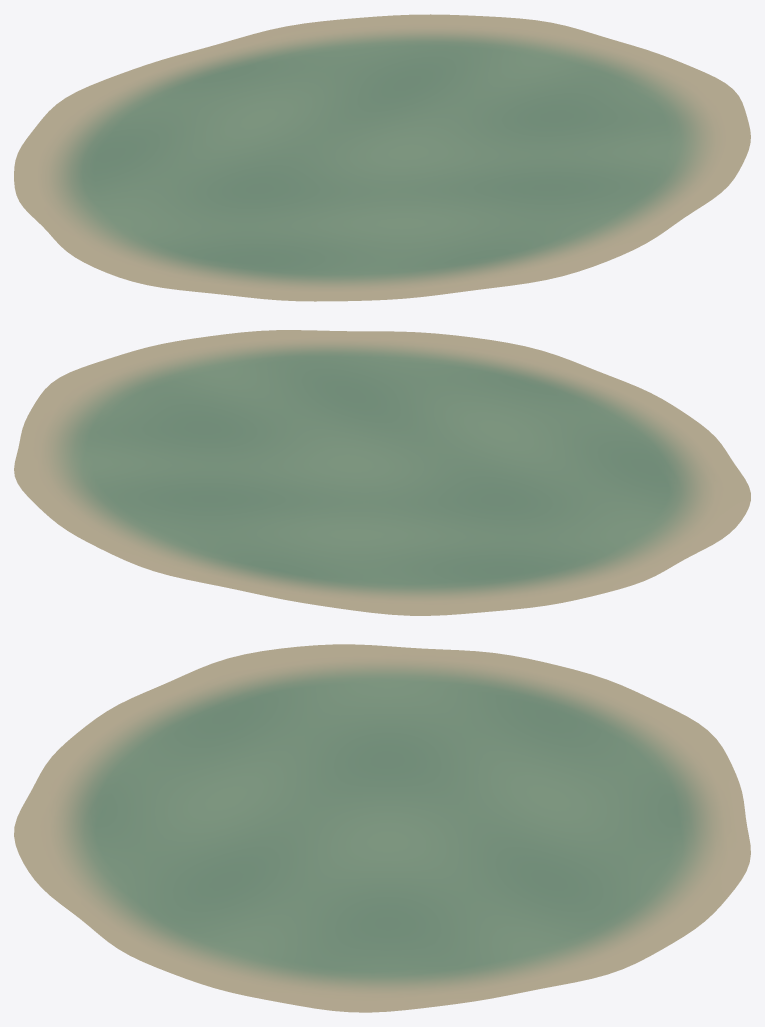
Rendered from island-terrain.glb.
3 renders of one model, top to bottom at view 1: azimuth 30°, elevation 25°; view 2: azimuth 150°, elevation 25°; view 3: azimuth 270°, elevation 25°, orthographic. The views are drawn at different scales.
Parts seen in each view (by area): view 1: DeveloperMetropolisTerrain; view 2: DeveloperMetropolisTerrain; view 3: DeveloperMetropolisTerrain.
Boxes of the visible parts, x1,y1,x2,y2 form: DeveloperMetropolisTerrain: [14, 14, 750, 301]; DeveloperMetropolisTerrain: [14, 330, 750, 615]; DeveloperMetropolisTerrain: [14, 644, 750, 1012].
Bounding box in the file's own units: 2823 × 1.15 × 2389.
